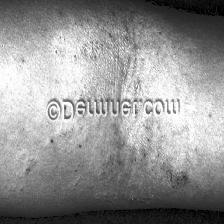Non-Cancerous Skin Condition: (100, 122, 196, 209)
